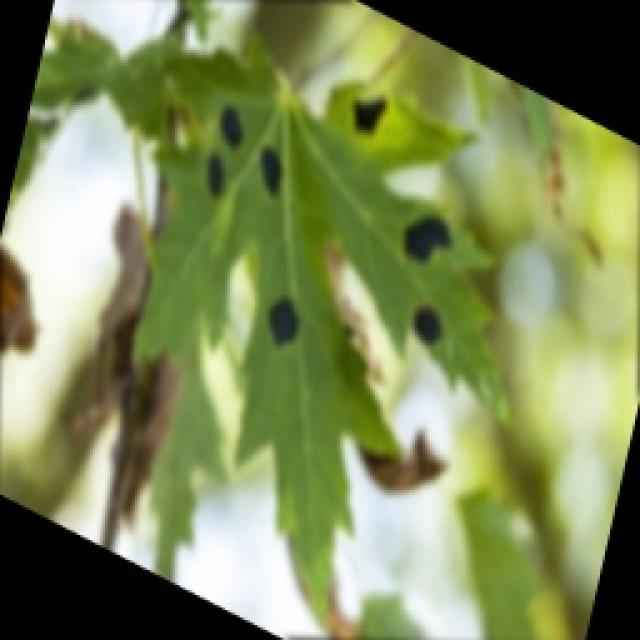Tar_Spot: (157, 72, 480, 372)
